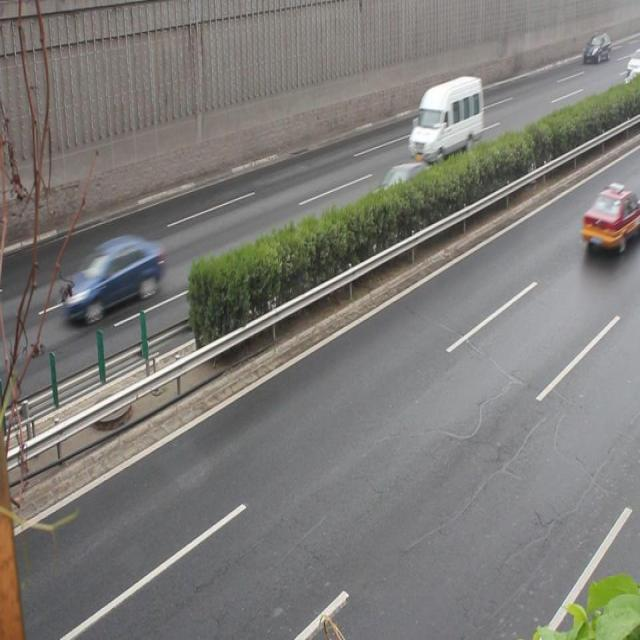car: (60, 235, 163, 323), (362, 162, 434, 229), (580, 185, 640, 254)
truck: (408, 76, 482, 158)
